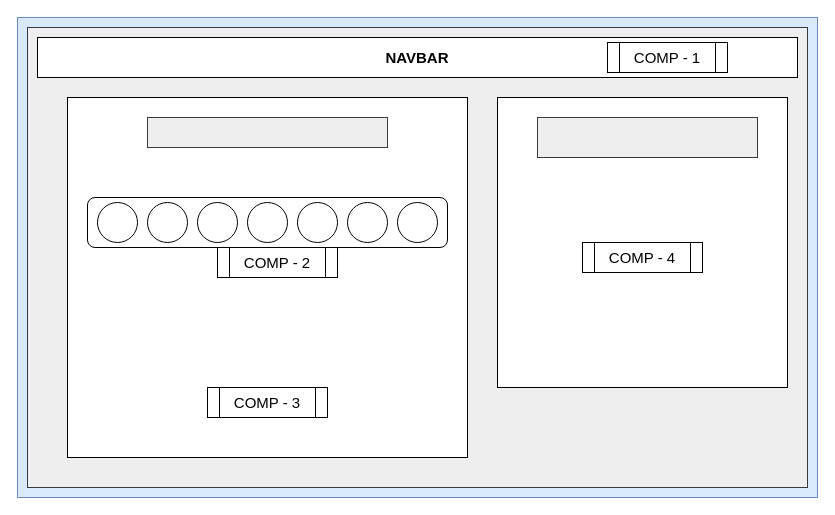
The diagram is 835 pixels wide and 515 high, and some of its shapes have lost their labels. The shapes that lost their labels are listed below. From the top down, each one's centre as x and y in pixels, then its label:
At point (267, 132): "STATEMENT & RESPONSE".
At point (647, 137): "RECENT ACTIVITY".
